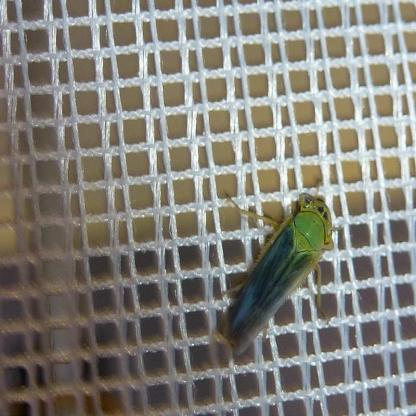Green-Leafhopper: (220, 178, 339, 357)
